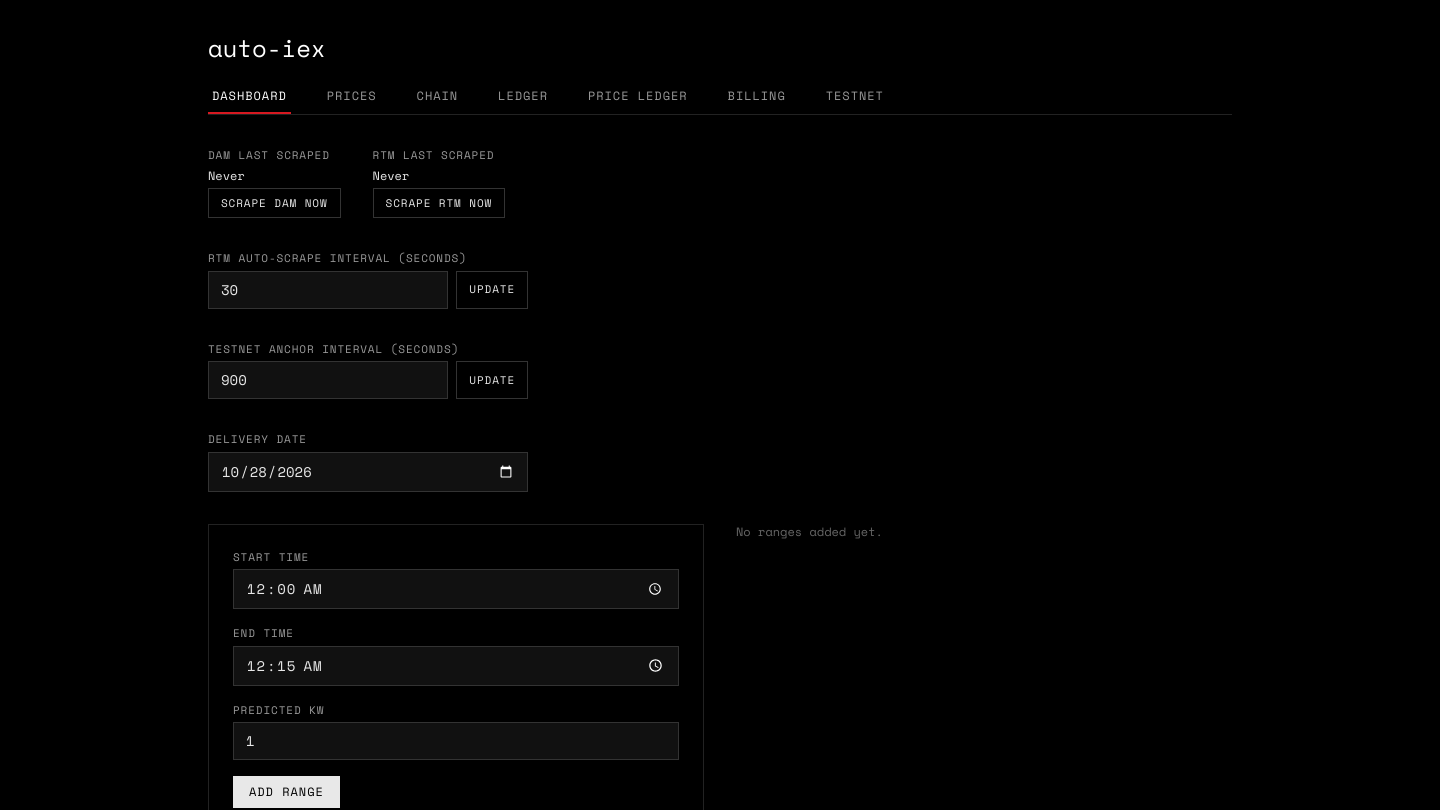
Test: App › adding a range shows it in the range list
Replace the text in the time field labelled "Start time" with "18:00" at (456, 589), box [233,569,679,609]
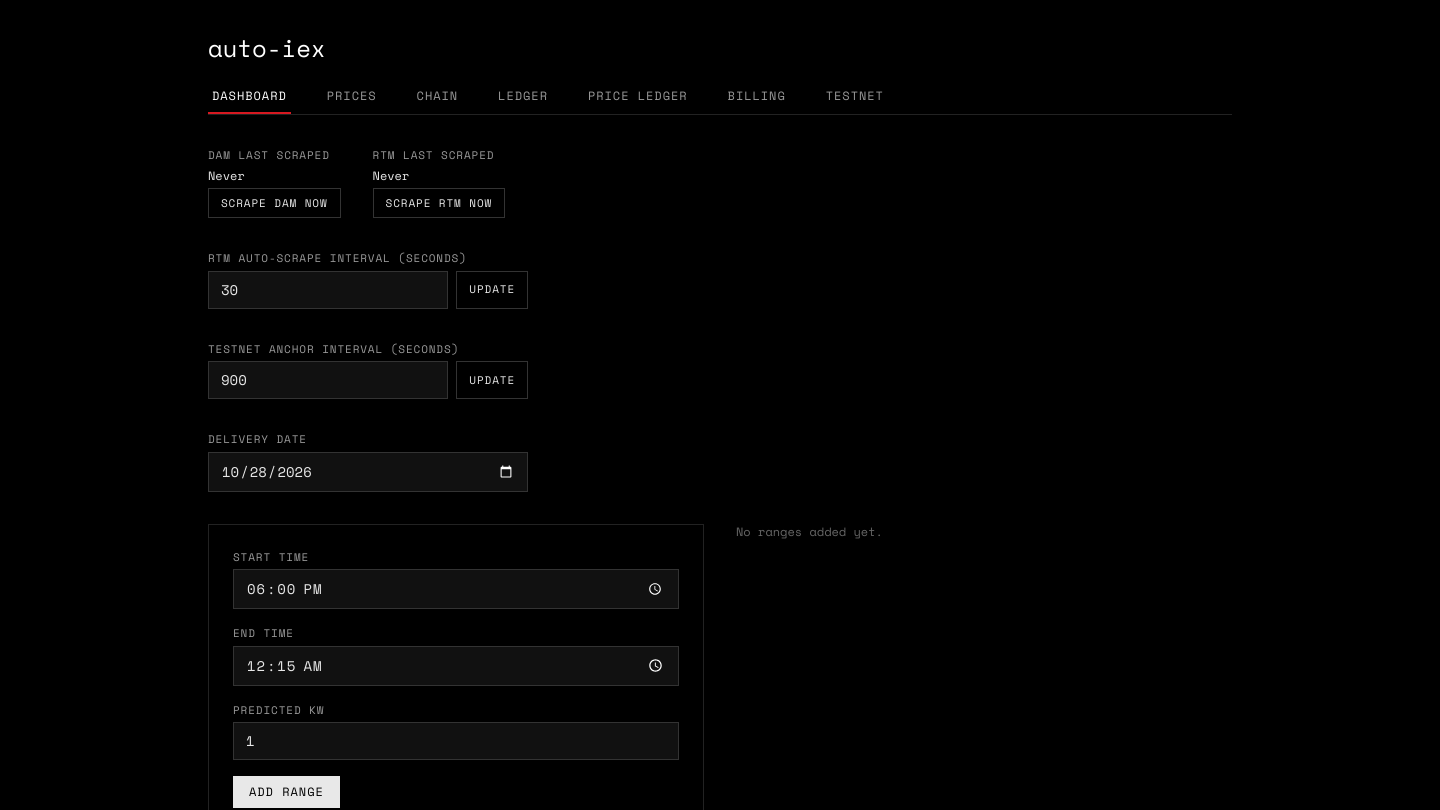
Replace the text in the time field labelled "End time" with "19:00" at (456, 666), box [233,646,679,686]
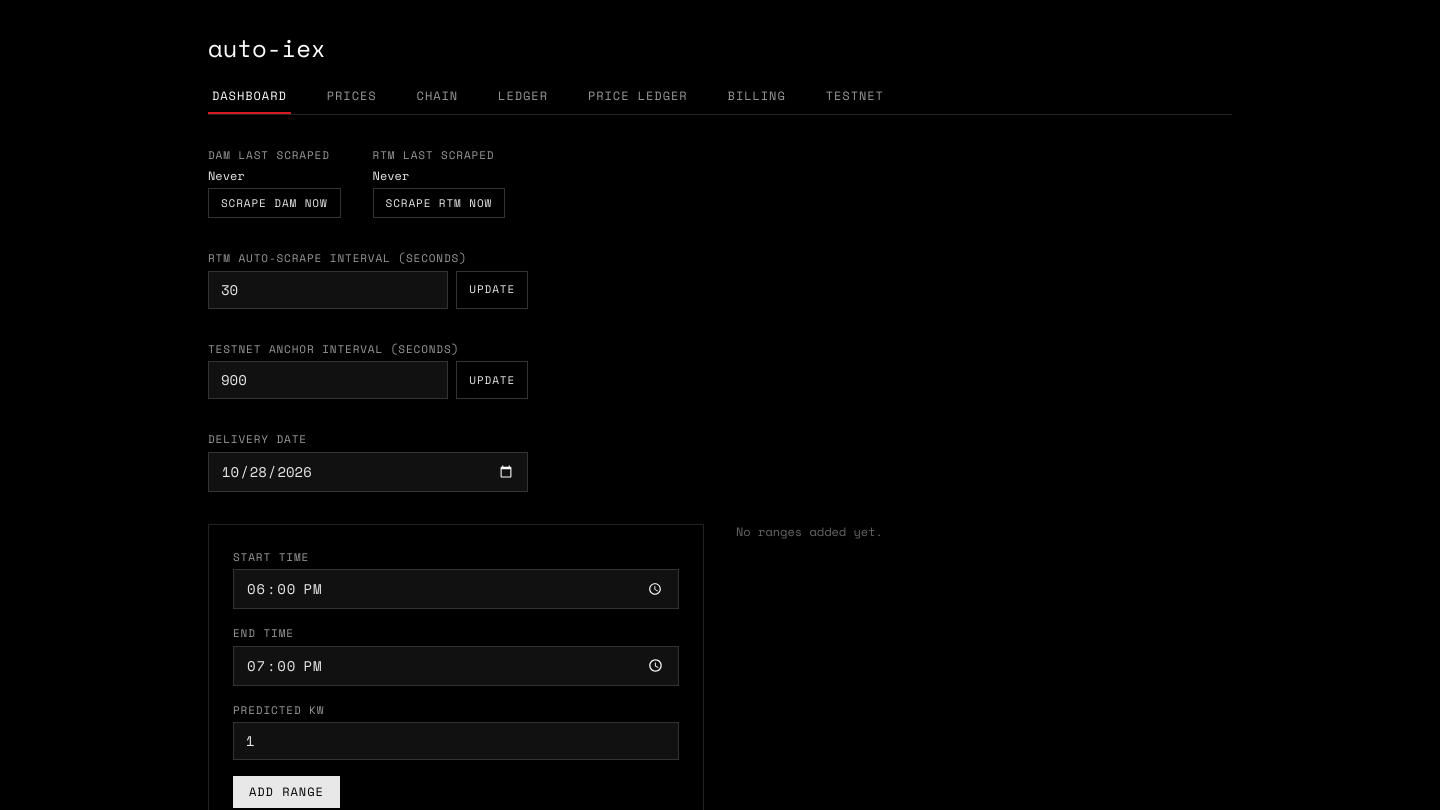
Replace the text in the number field labelled "Predicted kW" with "4.5" at (456, 741), box [233,722,679,760]
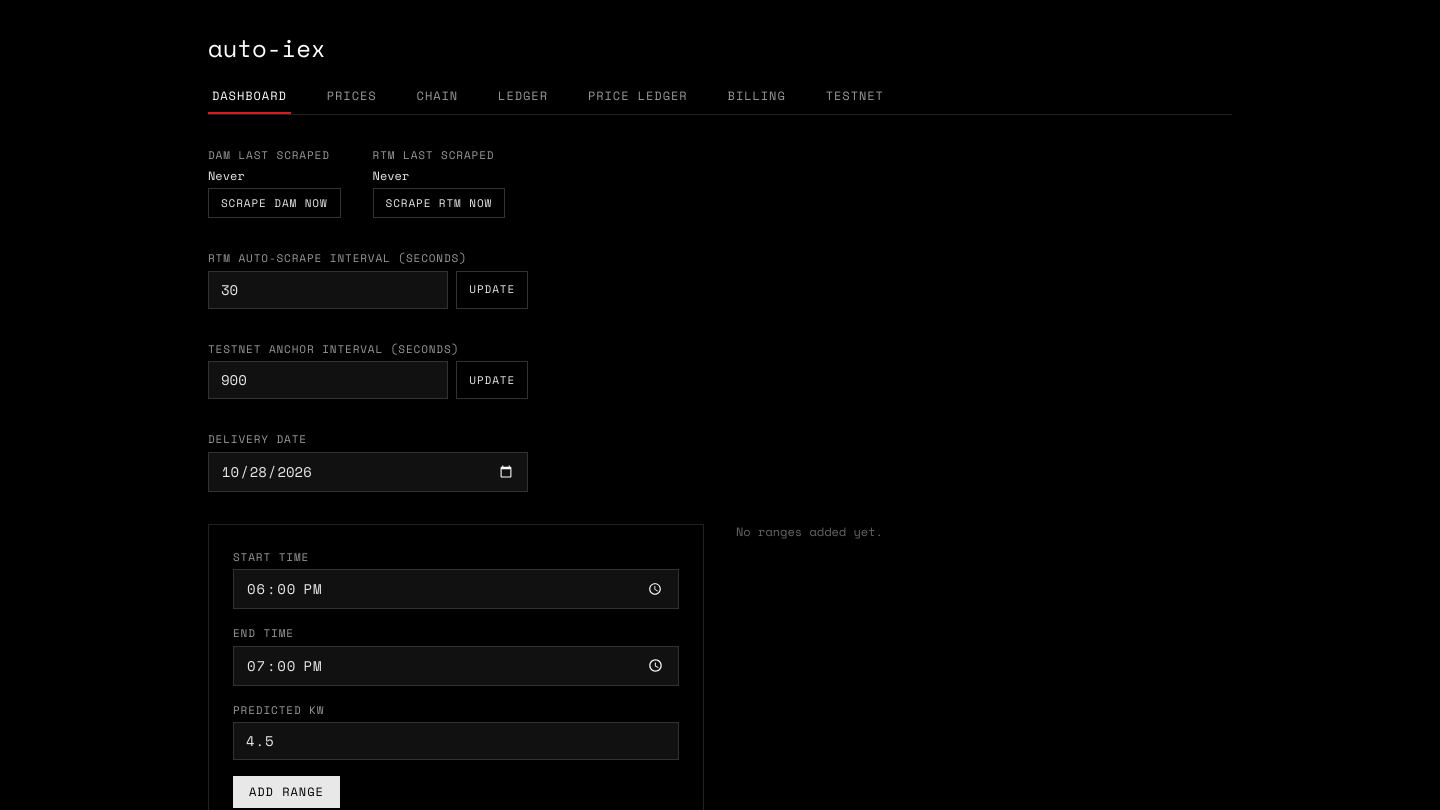
Click the button "Add range".
click(286, 792)  # box [233,776,340,808]
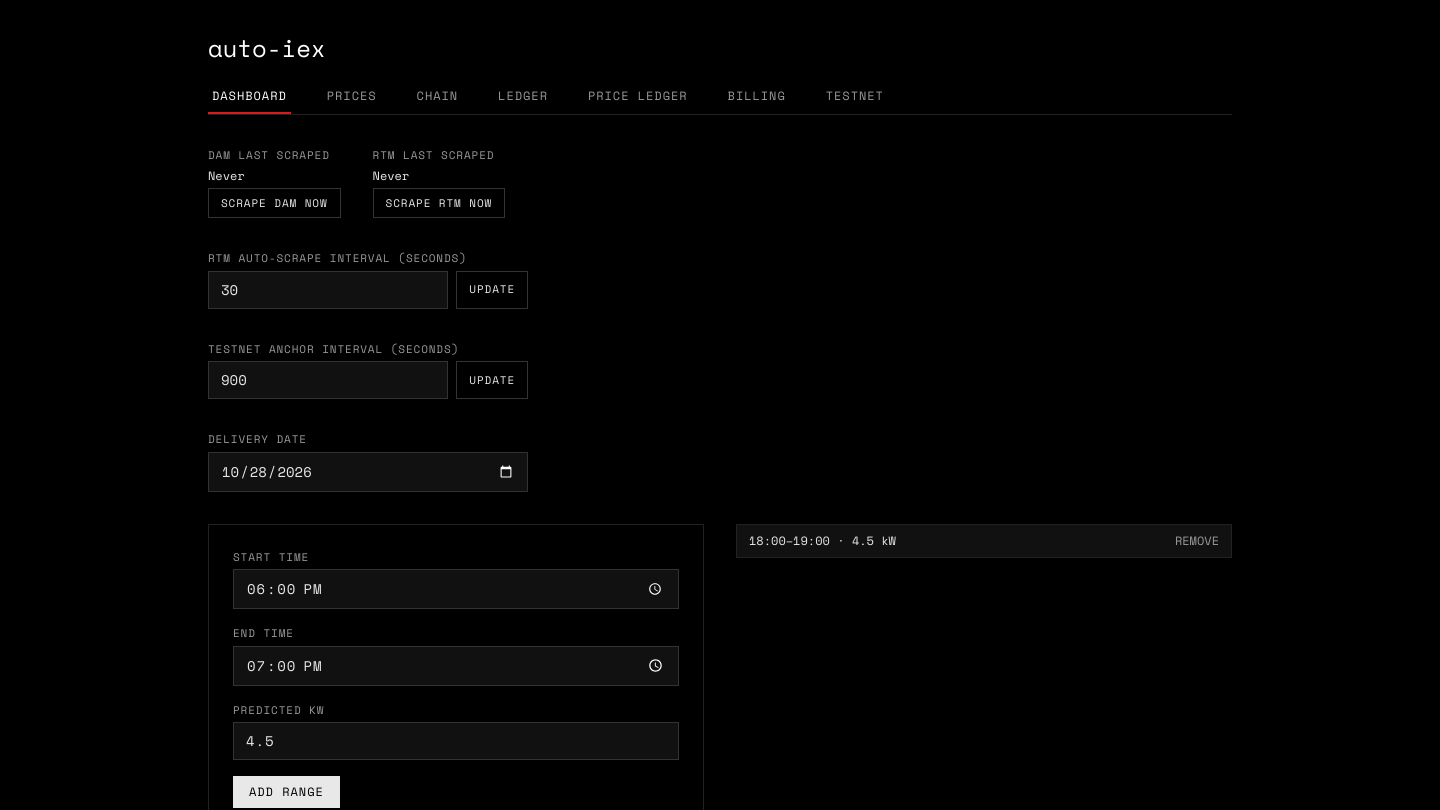
Check: the text "18:00–19:00 · 4.5 kW" is shown, box [749,532,896,548]
